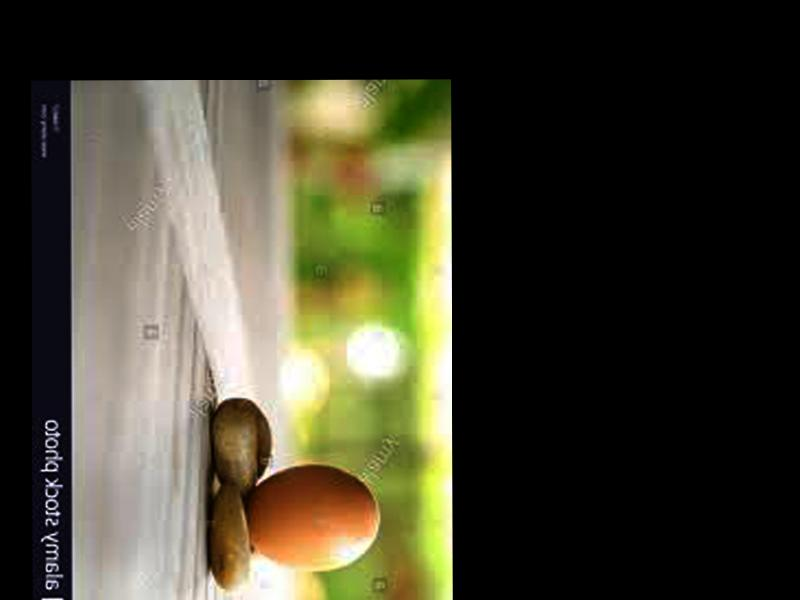Eggs: (246, 463, 377, 573)
